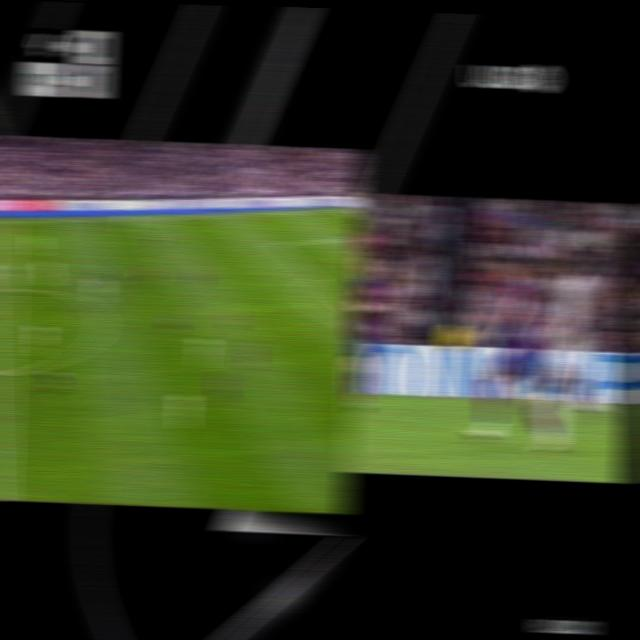bigarea_top_inner: (269, 238, 285, 249)
corner: (334, 205, 351, 213)
halfcircle_bottom: (0, 359, 18, 382)
halfcircle_top: (0, 279, 18, 295)
midline_top_intersection: (3, 214, 18, 226)
top_arc_area_intersection: (307, 270, 322, 282)
